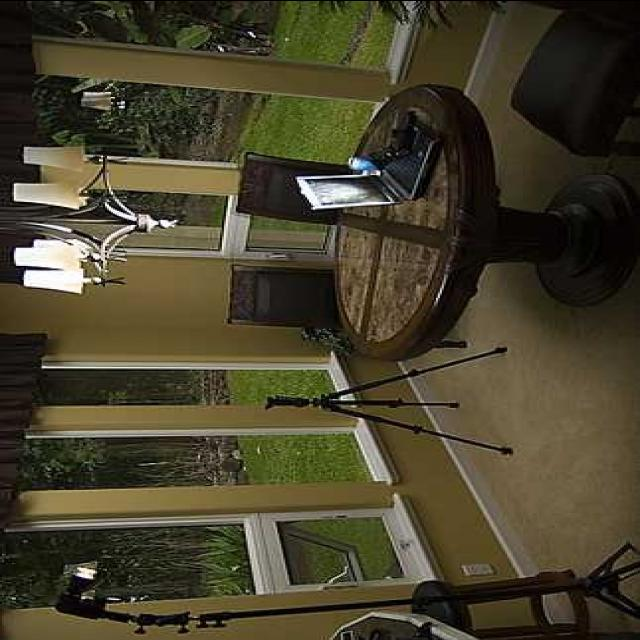laptop: (288, 120, 446, 213)
